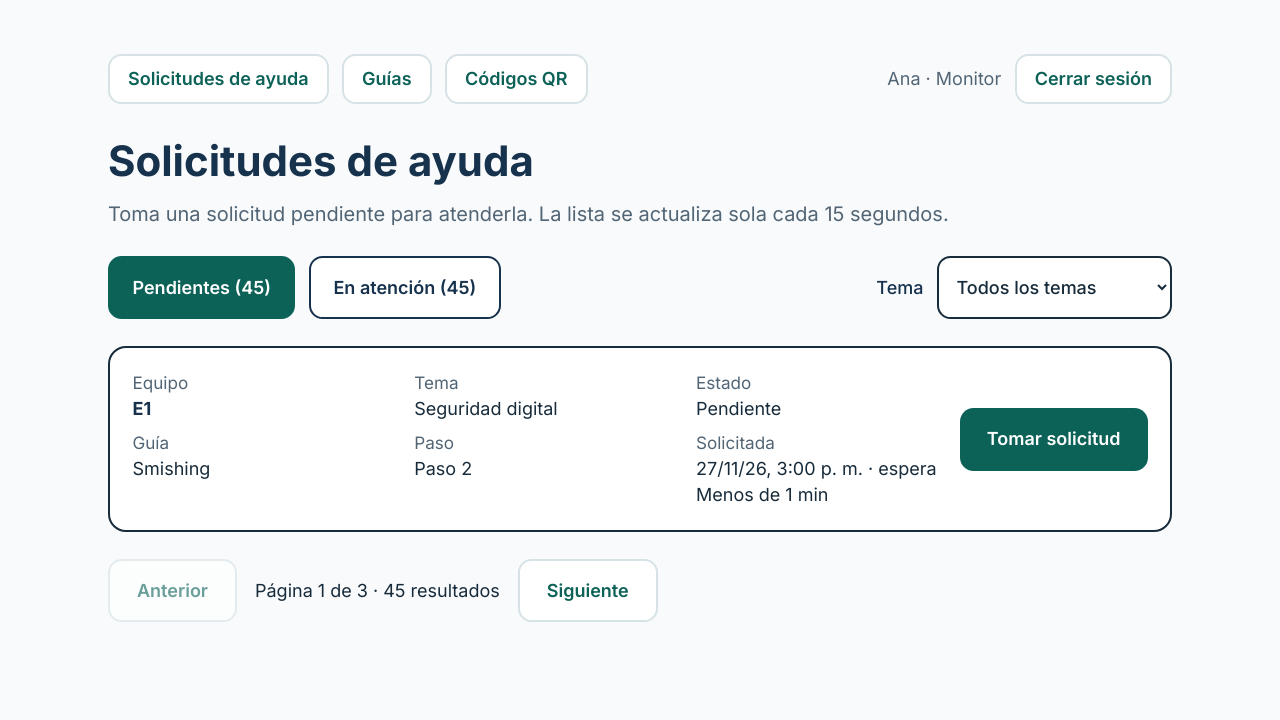
Test: ColaSolicitudesPage › filtros y paginación (siempre contra la API) › siguiente/anterior piden la página al servidor y muestran el total
Expected: the text "Página 1 de 3 · 45 resultados" is shown, [255, 578, 500, 604]
Expected: the button "Anterior" is disabled, [108, 559, 237, 622]
Click the button "Siguiente": (588, 591) [518, 559, 658, 622]
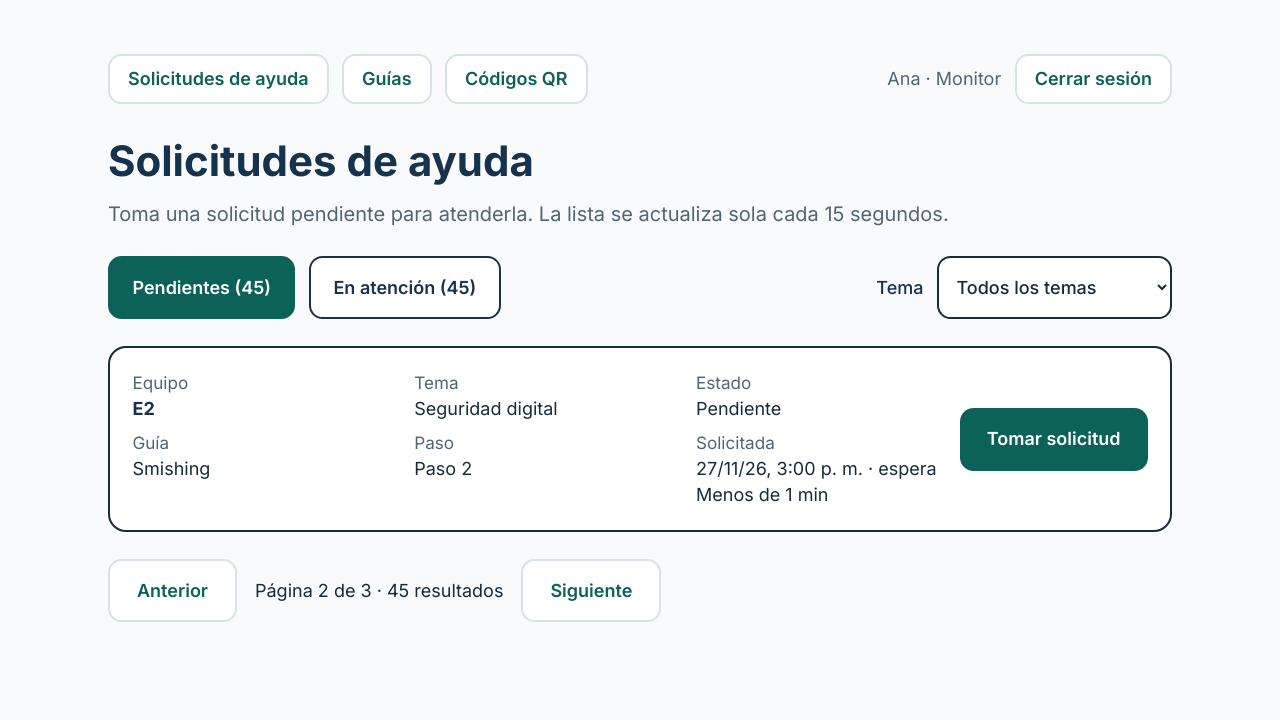
Now the text "E2" is shown, box [132, 398, 155, 419]
Click the button "Anterior": (172, 591) [108, 559, 237, 622]
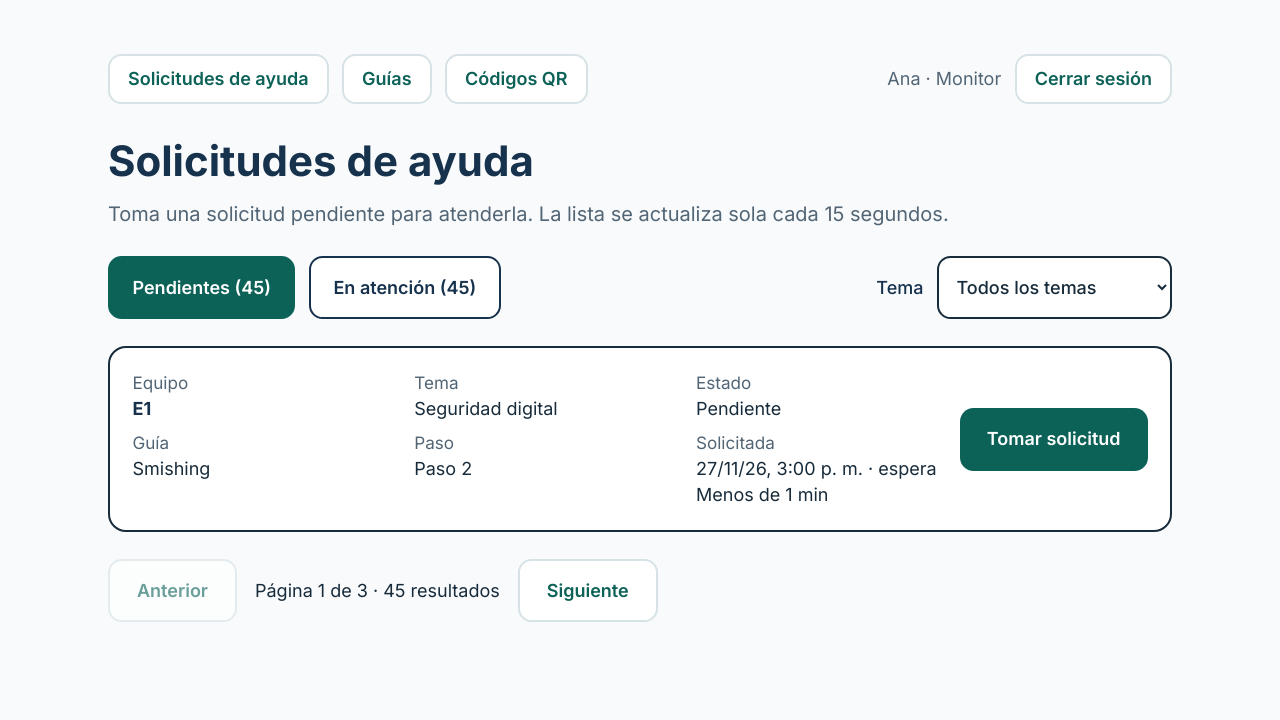
Now the text "E1" is shown, box [132, 398, 151, 419]
